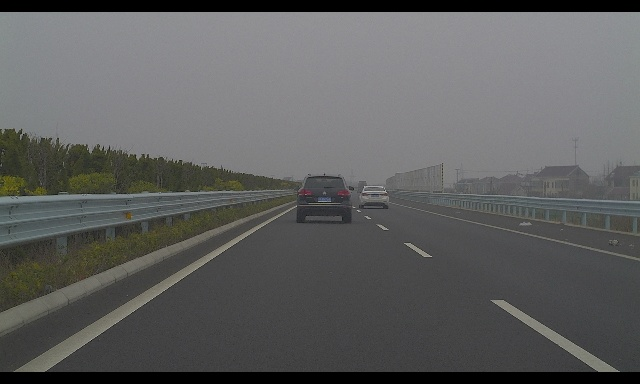car: (293, 173, 354, 223), (357, 186, 389, 209)
truck: (357, 181, 368, 193)
